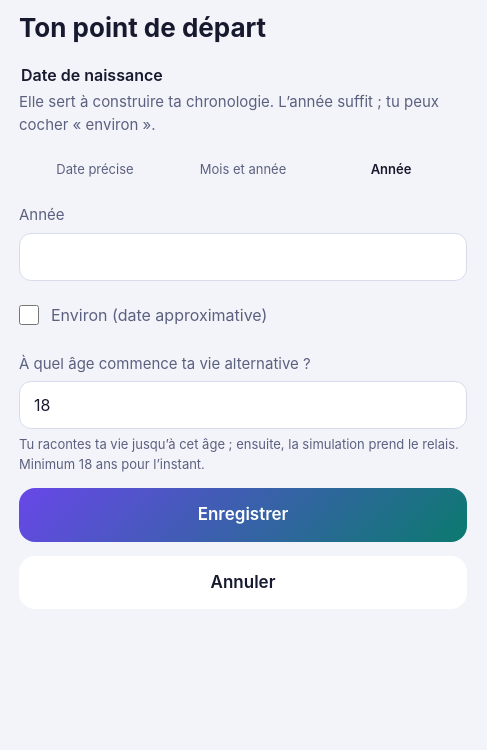
dossier de vie : parcours dans l’interface › signale aussitôt une date incohérente et reste sur la question
Step 1. Type "2000" into the field labelled "Année" → coordinates (243, 256), box [19,232,467,280]
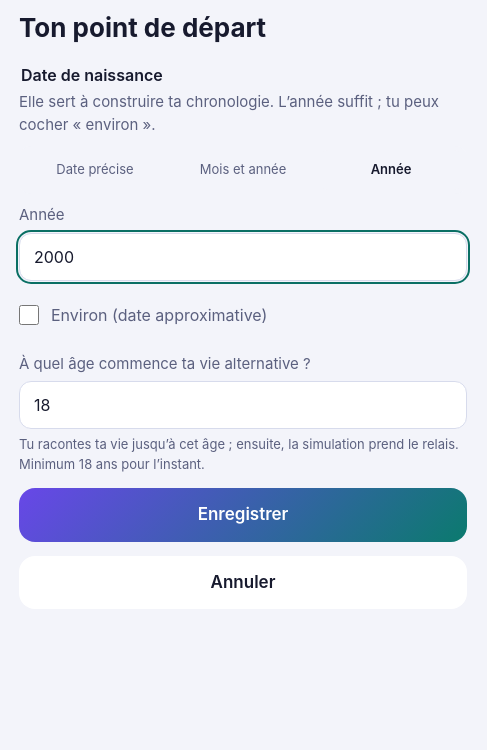
Step 2. Replace the text in the field labelled "À quel âge commence" with "20" → coordinates (243, 405), box [19,381,467,429]
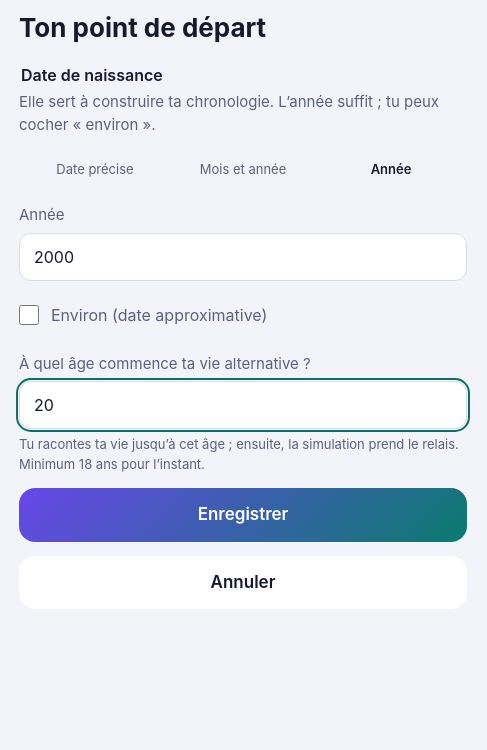
Step 3. Click the button "Enregistrer" → coordinates (243, 515), box [19,488,467,542]
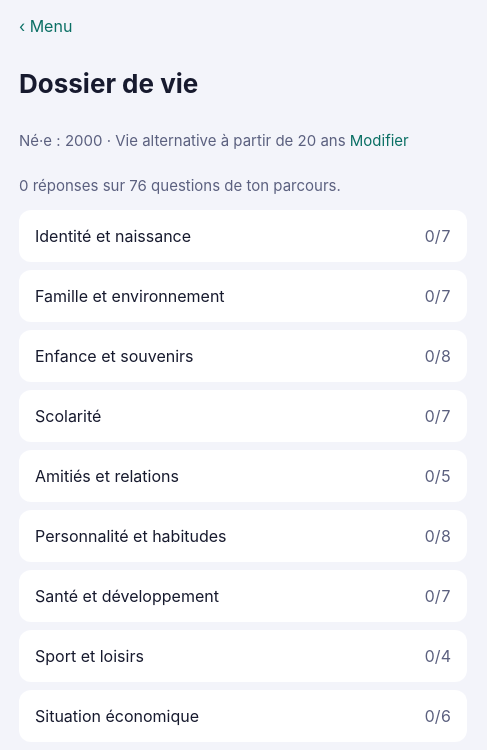
Step 4. Click the button "Scolarité 0/7" → coordinates (68, 416), box [19,390,467,442]
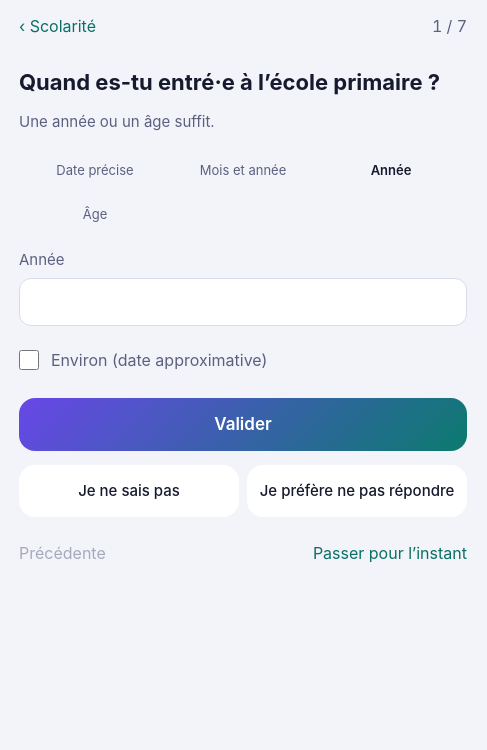
Result: the heading reads "Quand es-tu entré·e à l’école primaire ?" at [19,69,440,95]
Step 5. Type "1995" into the field labelled "Année" → coordinates (243, 302), box [19,278,467,326]
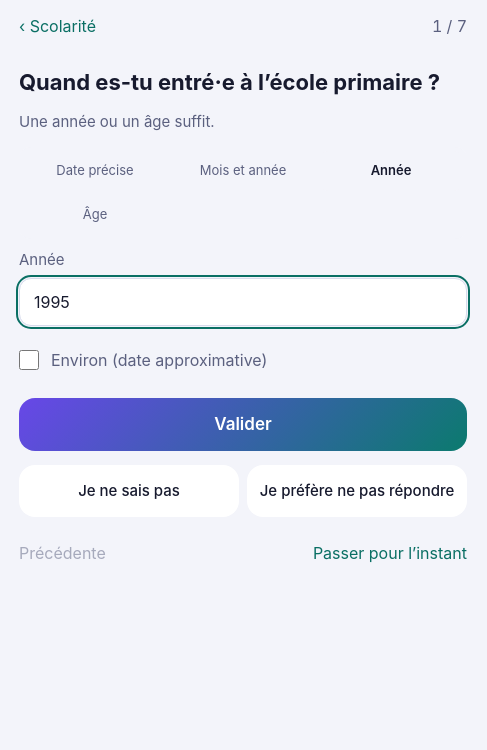
Step 6. Click the button "Valider" → coordinates (243, 424), box [19,398,467,451]
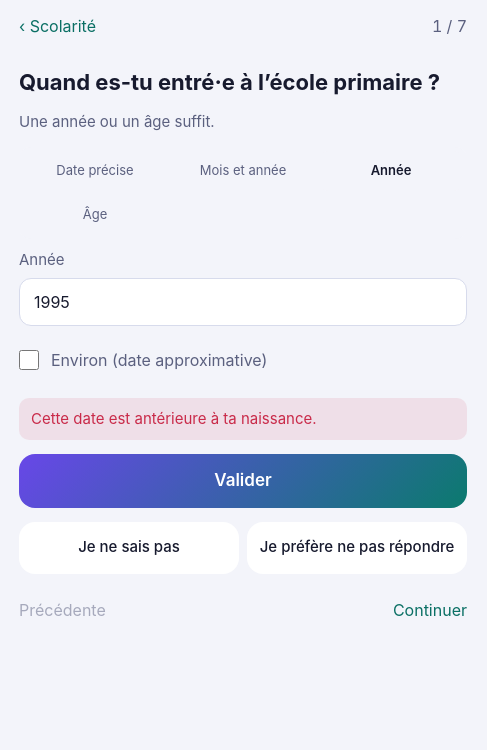
Result: the heading reads "Quand es-tu entré·e à l’école primaire ?" at [19,69,440,95]
Result: the list named "Cohérence" reads "Cette date est antérieure à ta naissance." at [31,409,317,428]
